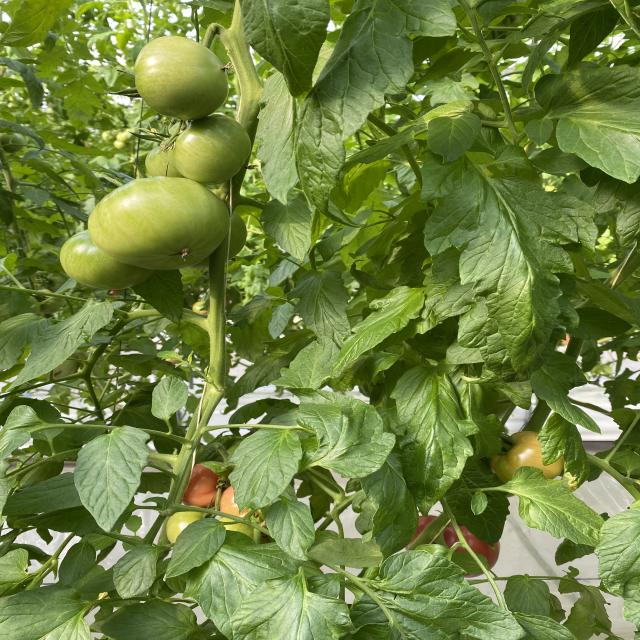kirmizi: (68, 28, 252, 316)
